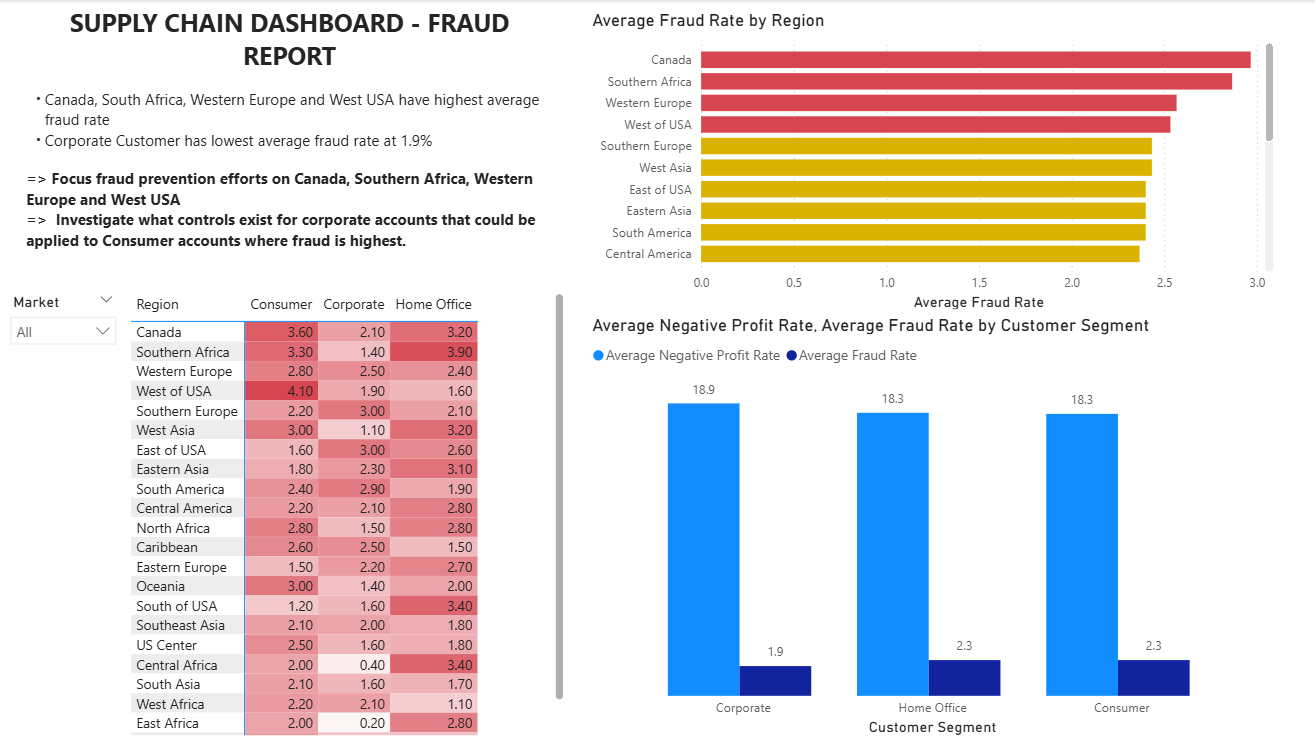

What the dashboard file says about the page in this screenshot:
{"tool":"powerbi","page":{"name":"Fraud Report","canvas":[1280,720],"ordinal":3},"visuals":[{"type":"slicer","fields":{"Values":["fraud_kpi.market"]},"box":[0,280.1,122.6,63.2],"z":0},{"type":"pivotTable","fields":{"Rows":["fraud_kpi.order_region"],"Columns":["fraud_kpi.customer_segment"],"Values":["Avg(fraud_kpi.fraud_pct)"]},"box":[122.6,280.1,430.9,439.6],"z":1000},{"type":"clusteredBarChart","title":"Average Fraud Rate by Region","fields":{"Category":["fraud_kpi.order_region"],"Y":["Avg(fraud_kpi.fraud_pct)"]},"box":[571.3,9.9,672.5,296.4],"z":2000},{"type":"clusteredColumnChart","title":"Average Negative Profit Rate, Average Fraud Rate by Customer Segment","fields":{"Category":["fraud_kpi.customer_segment"],"Y":["Avg(fraud_kpi.neg_profit_pct)","Avg(fraud_kpi.fraud_pct)"]},"box":[571.3,306.3,672.5,413.7],"z":3000},{"type":"textbox","box":[20.4,0,522.3,280.1],"z":4000}]}

Visuals, with their boxes in screenshot pixels (x1, y1, x2, y2), scaled from the page's 1280x720 canvas onto the 1315x739 screenshot:
slicer - fraud_kpi.market: [x1=0, y1=287, x2=126, y2=352]
pivotTable - fraud_kpi.order_region x fraud_kpi.customer_segment: [x1=126, y1=287, x2=569, y2=738]
"Average Fraud Rate by Region" clusteredBarChart: [x1=587, y1=10, x2=1278, y2=314]
"Average Negative Profit Rate, Average Fraud Rate by Customer Segment" clusteredColumnChart: [x1=587, y1=314, x2=1278, y2=738]
textbox: [x1=21, y1=0, x2=558, y2=287]
